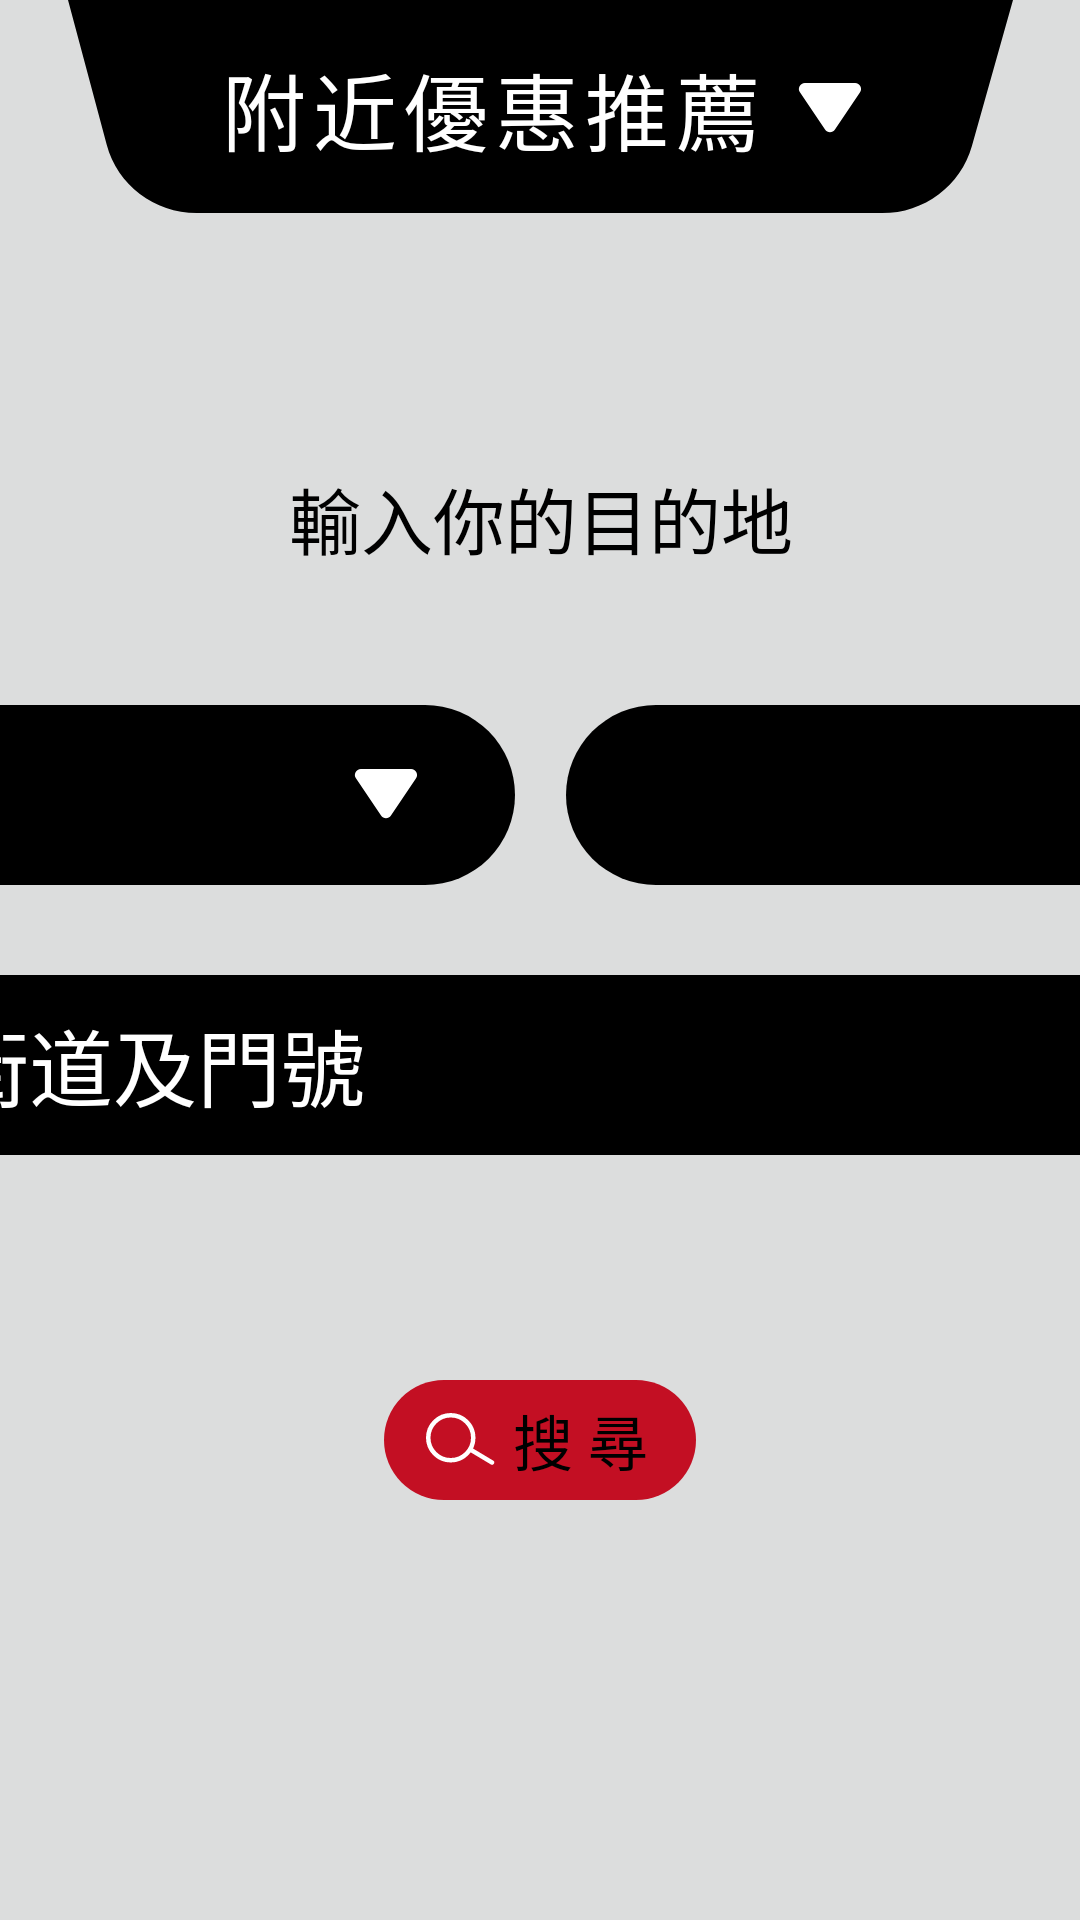

Where to tap for icons on this 1080x1920 app screen, as (x=x, y=y):
triangle down: (x=829, y=108), (x=385, y=794)
